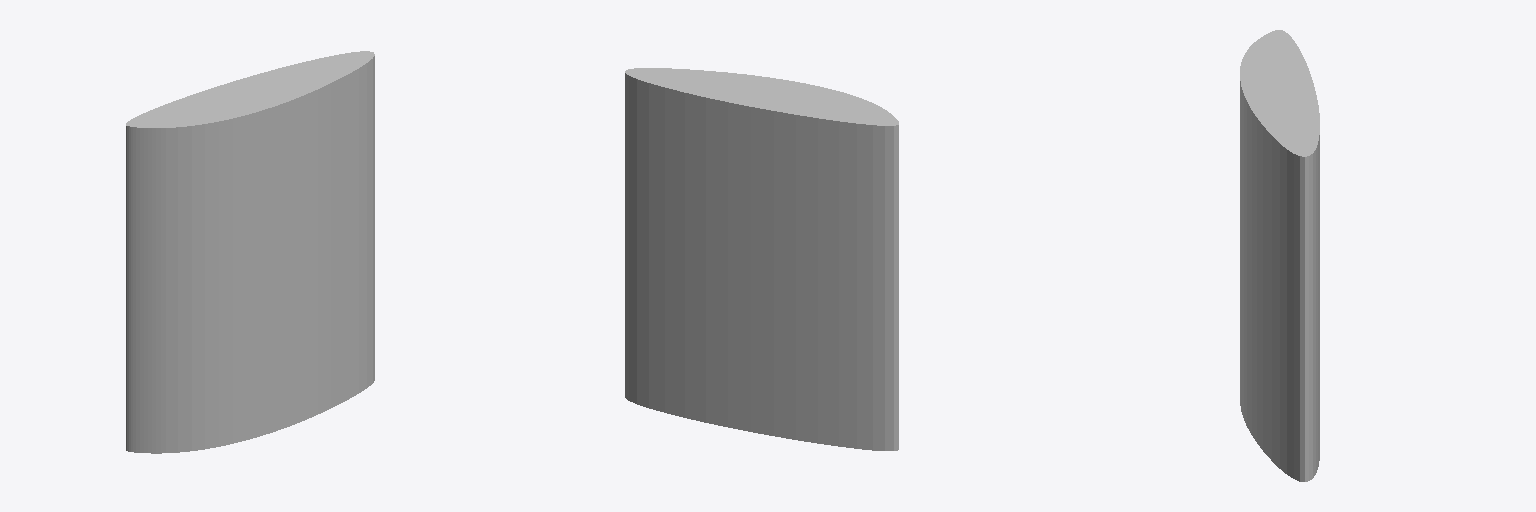
The model's file is Europe_02.obj.
The picture shows the model from 3 angles: view 1: azimuth 30°, elevation 25°; view 2: azimuth 150°, elevation 25°; view 3: azimuth 270°, elevation 25°; orthographic projection.
Parts seen in each view (by area): view 1: Europe_02_path4234; view 2: Europe_02_path4234; view 3: Europe_02_path4234.
Part boxes in pixels (x1,y1,x2,y2): Europe_02_path4234: (126,51,374,453); Europe_02_path4234: (625,68,898,450); Europe_02_path4234: (1240,30,1319,481).
Bounding box in the file's own units: 0.0838 × 0.1 × 0.0224.